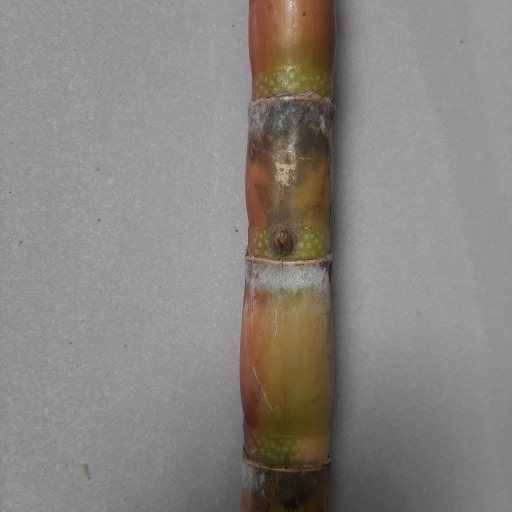Bud: (270, 229, 294, 260)
